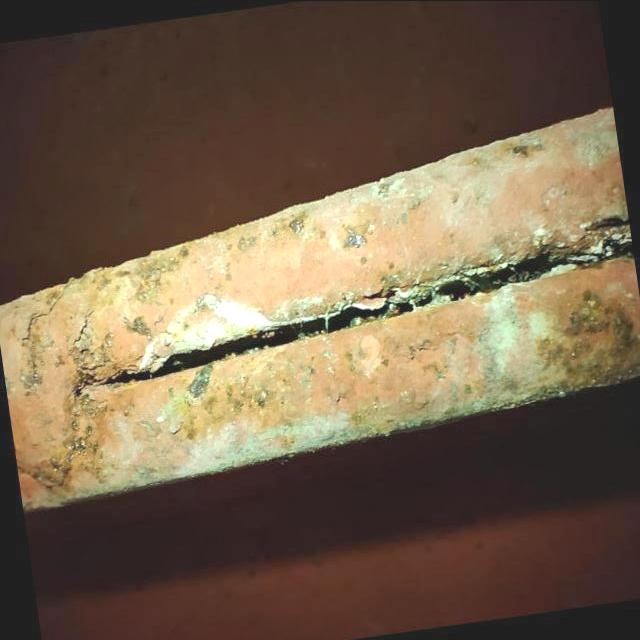defect: (98, 214, 634, 390), (18, 289, 65, 344), (71, 303, 98, 347)
